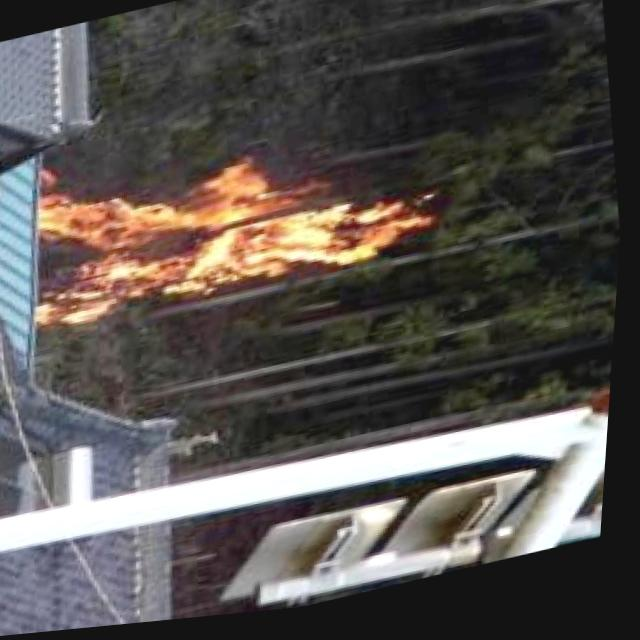Fire: (21, 136, 433, 353)
